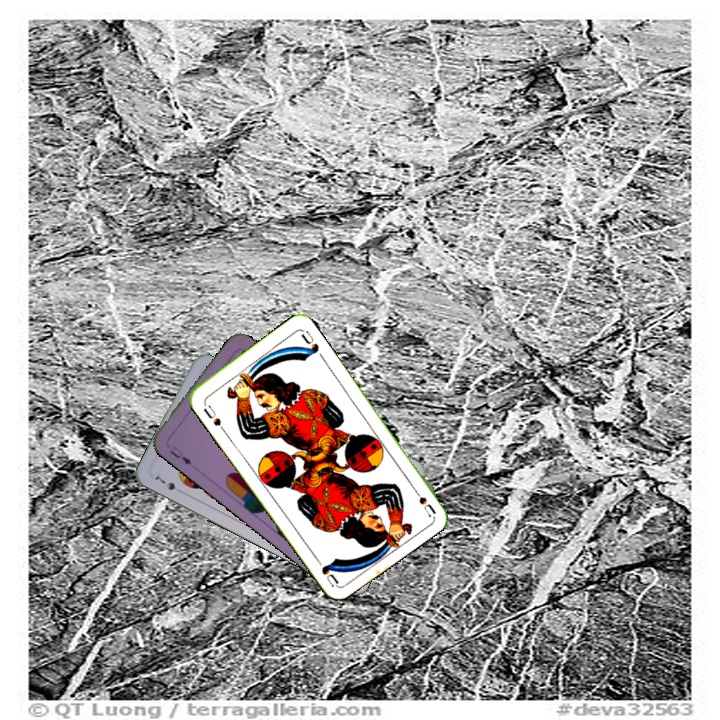EU: (165, 442, 194, 468)
S7: (151, 472, 186, 496)
SU: (407, 481, 438, 518), (199, 398, 227, 434)
